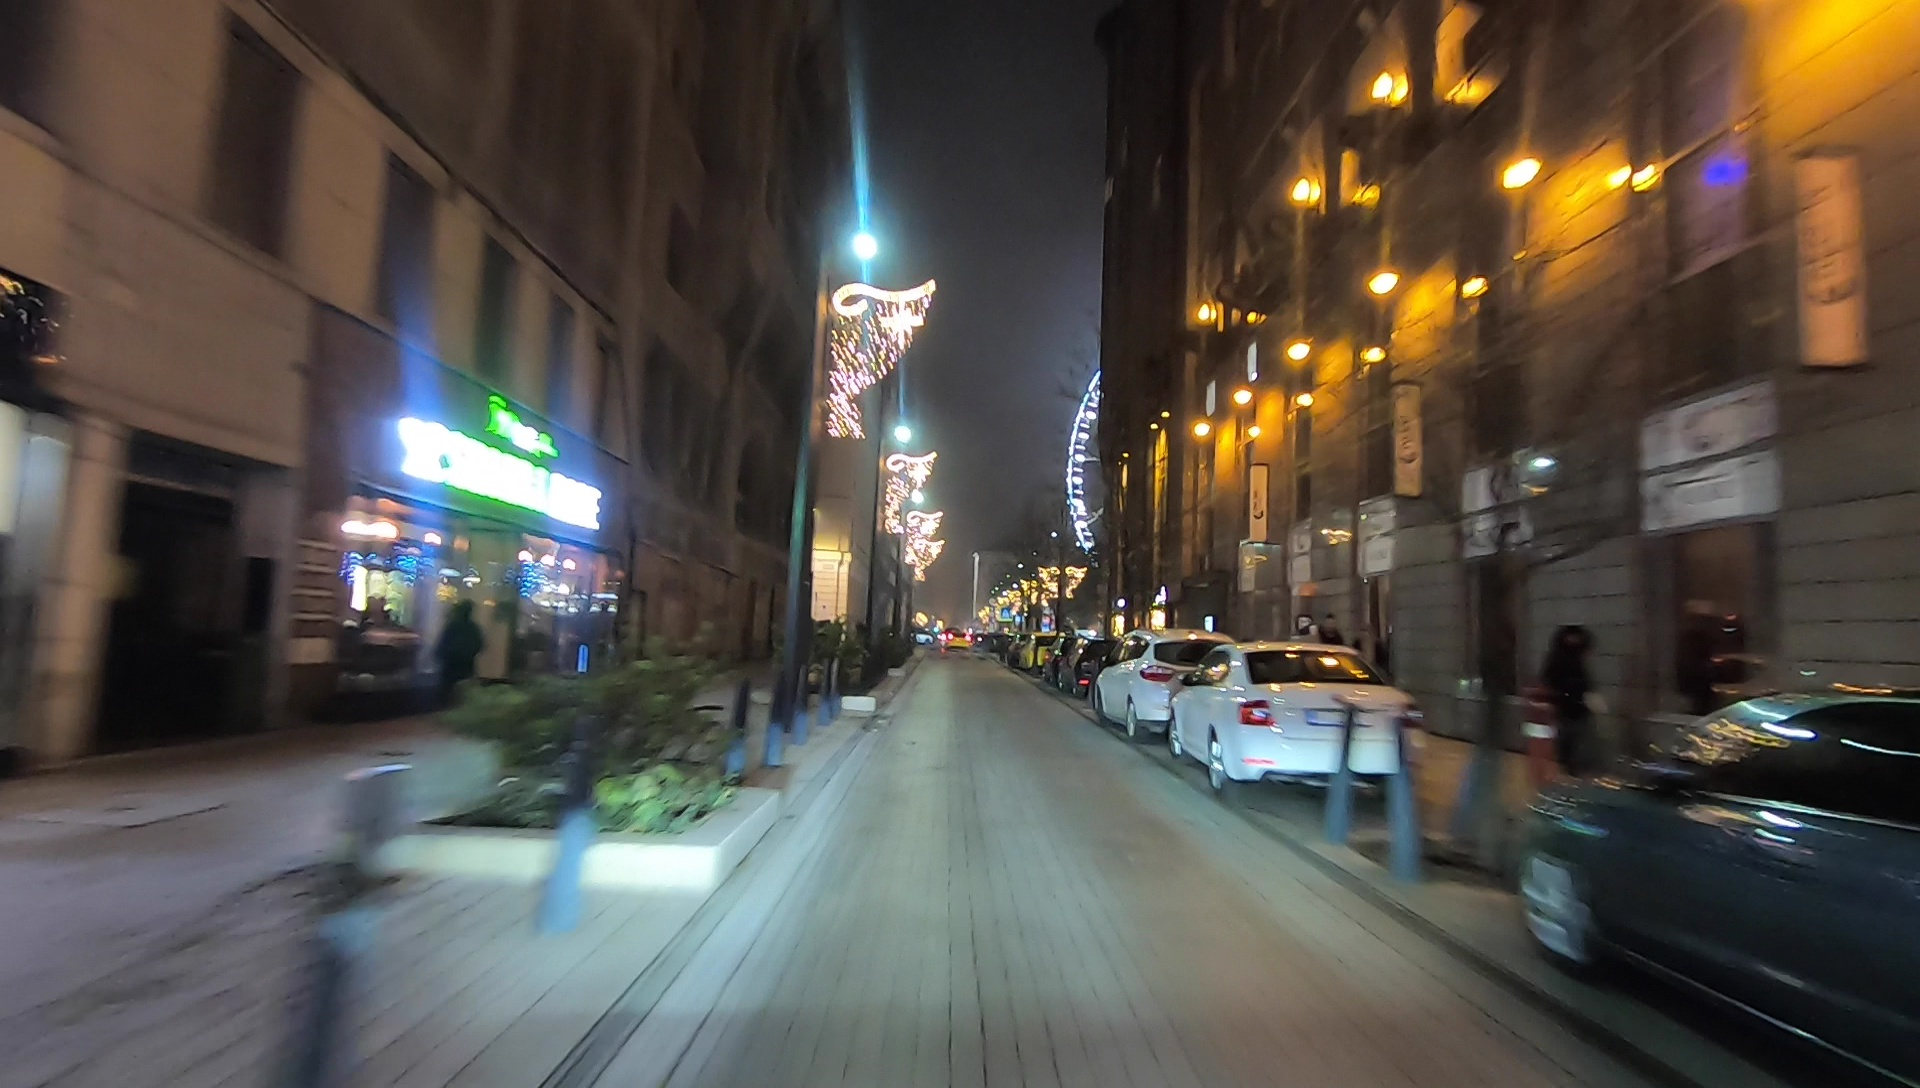person: (1541, 619, 1601, 787), (430, 599, 478, 737)
